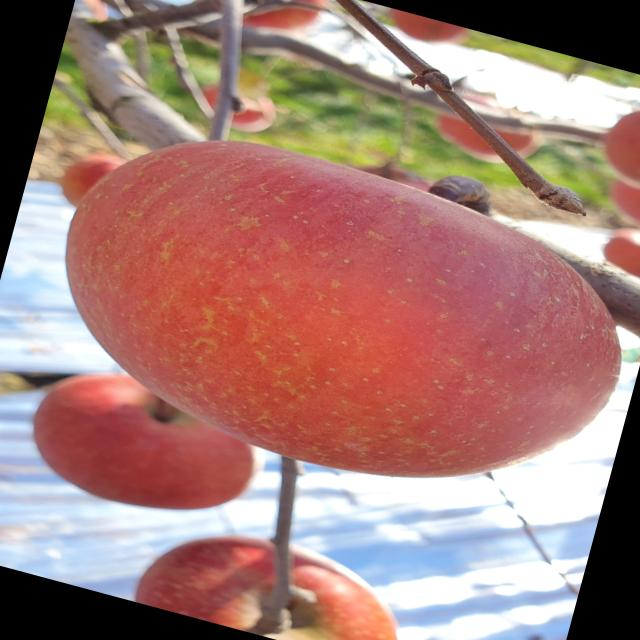fresh: (15, 91, 640, 548)
